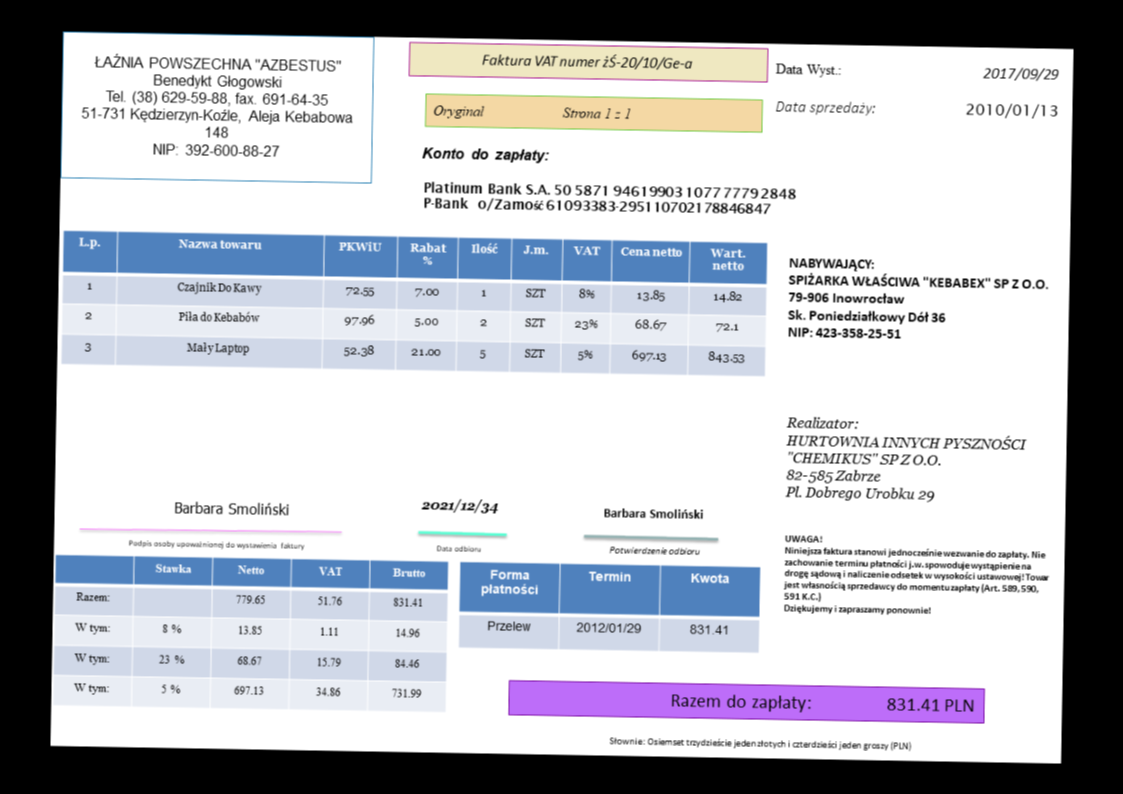Table: (59, 229, 768, 377), (52, 553, 449, 712), (457, 559, 762, 654)
TextBox: (77, 49, 356, 161), (781, 532, 1051, 620), (785, 255, 1050, 344), (782, 413, 1029, 504), (420, 178, 799, 218), (667, 690, 976, 717), (605, 734, 914, 754), (430, 101, 634, 124), (479, 51, 695, 71), (419, 142, 552, 165), (125, 536, 307, 552), (172, 497, 291, 517), (772, 97, 877, 117), (964, 100, 1058, 121), (419, 495, 500, 517), (600, 505, 705, 521), (980, 63, 1059, 83), (773, 60, 841, 80), (606, 544, 700, 557), (434, 542, 482, 553)
